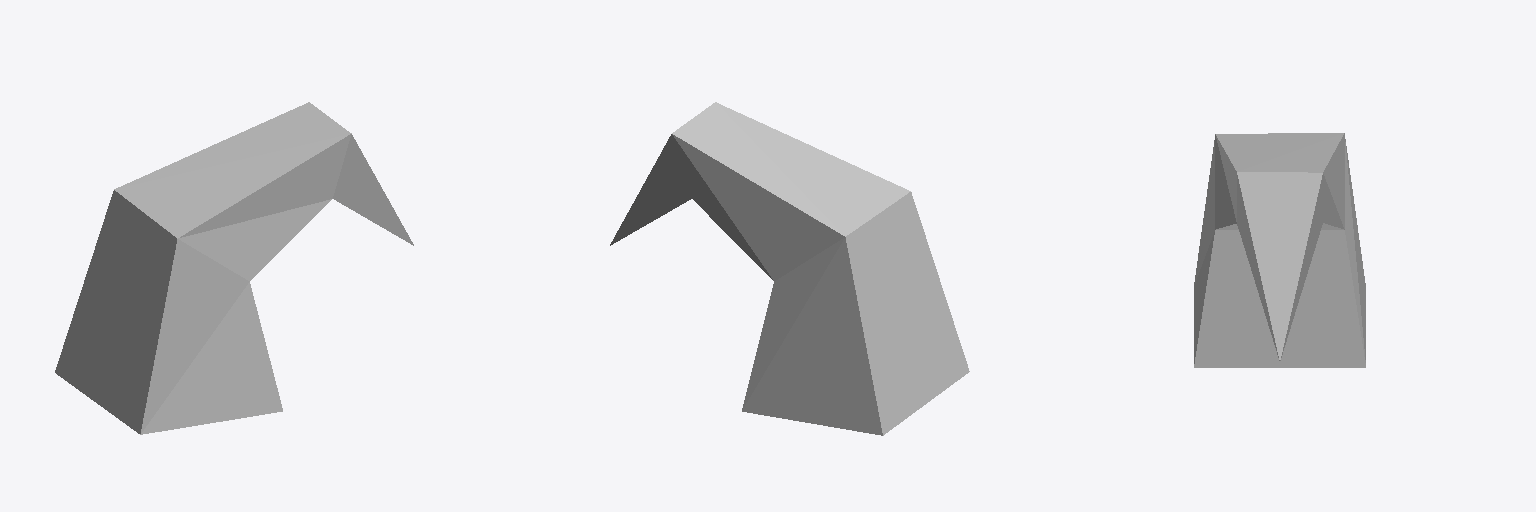
The model's file is skeletal_000013.obj.
3 renders of one model, left to right at view 1: azimuth 30°, elevation 25°; view 2: azimuth 150°, elevation 25°; view 3: azimuth 270°, elevation 25°, orthographic.
Parts seen in each view (by area): view 1: Cube; view 2: Cube; view 3: Cube.
Boxes of the visible parts, <box> form: Cube: <box>55,102,413,434</box>; Cube: <box>610,102,969,435</box>; Cube: <box>1194,133,1365,367</box>.
Bounding box in the file's own units: 4.25 × 3.07 × 2.